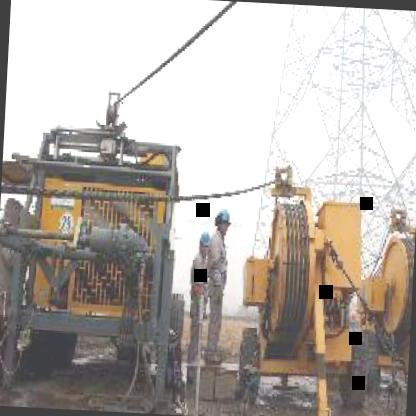helmet: (212, 206, 233, 236), (196, 229, 212, 254)
